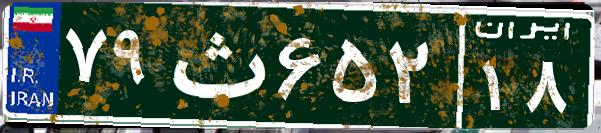1: (475, 38, 525, 113)
2: (385, 28, 445, 110)
5: (330, 28, 385, 110)
6: (273, 28, 330, 110)
7: (57, 26, 110, 107)
8: (525, 38, 570, 115)
9: (110, 28, 158, 105)
ث: (158, 15, 273, 115)
